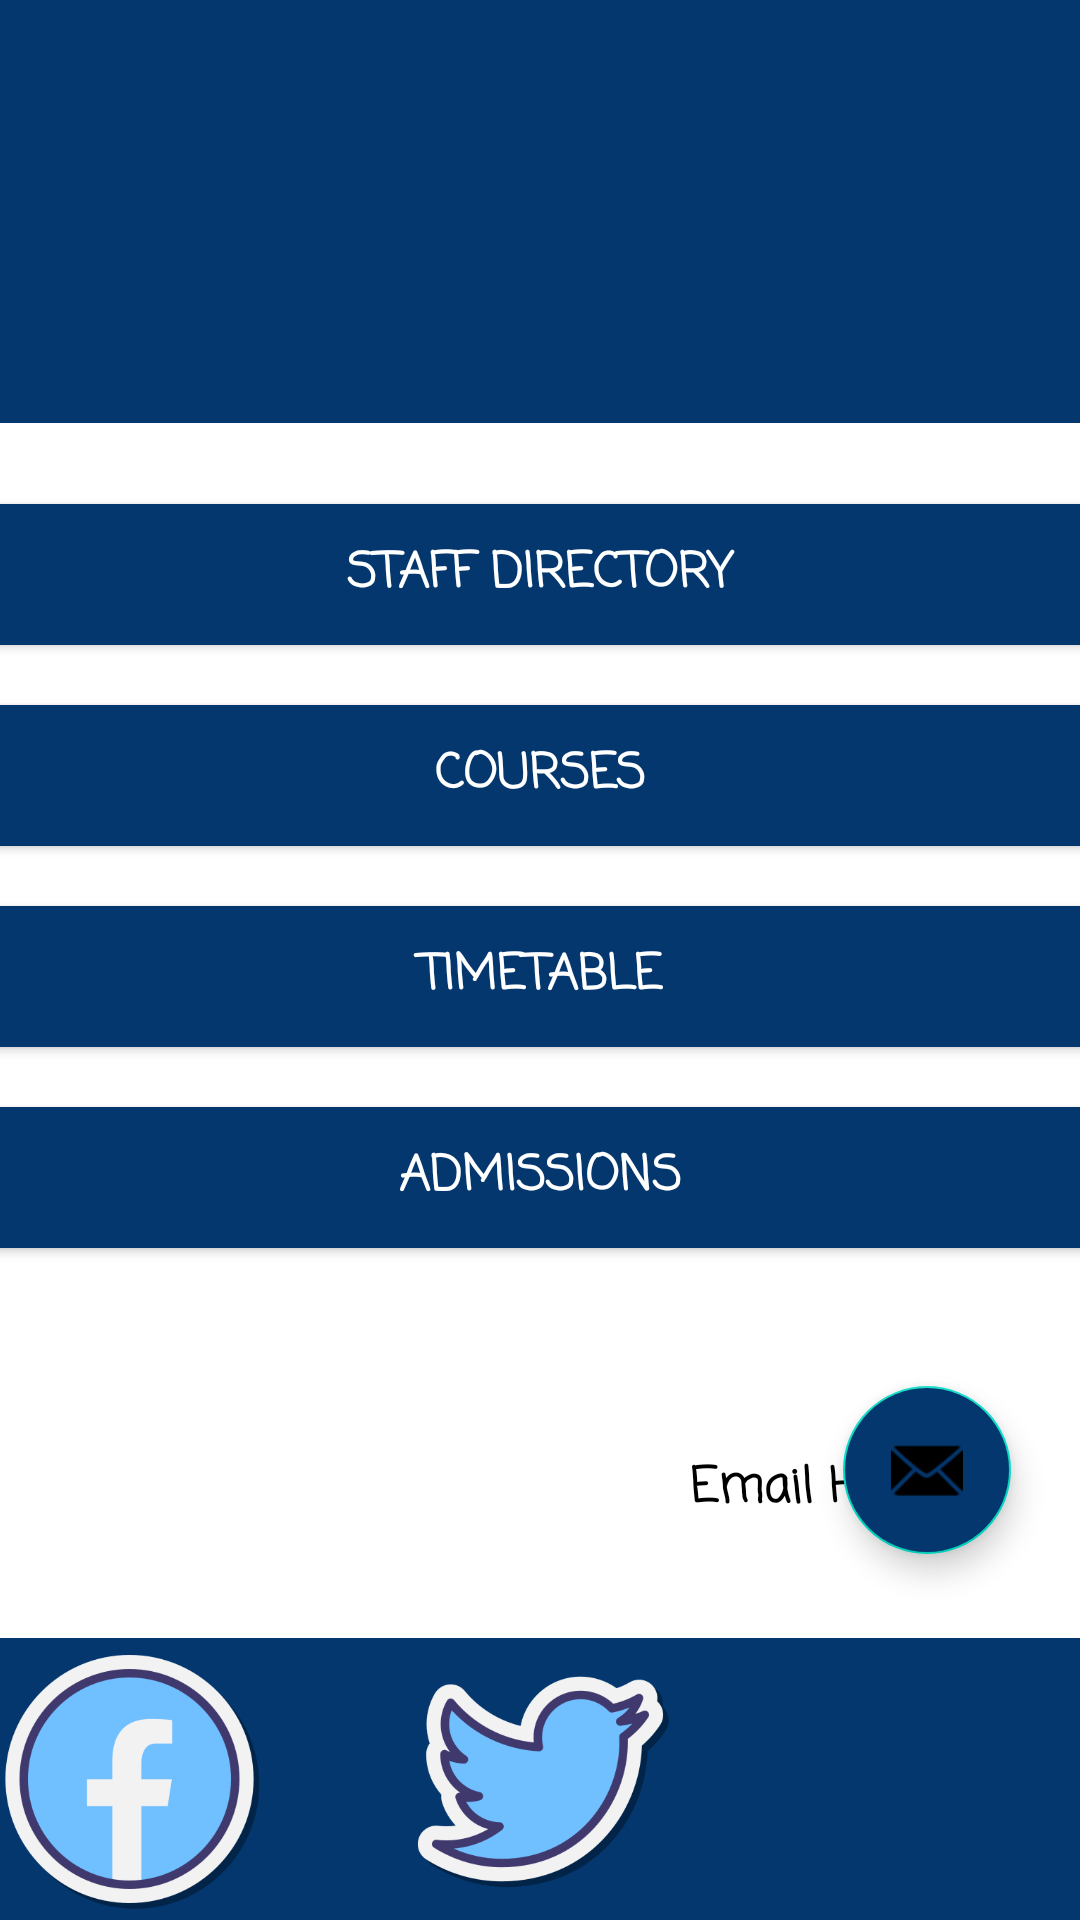

Icon click points for this 1080px x 1920px phone screenshot, format [x,y]:
FAB Email: [927,1470]
